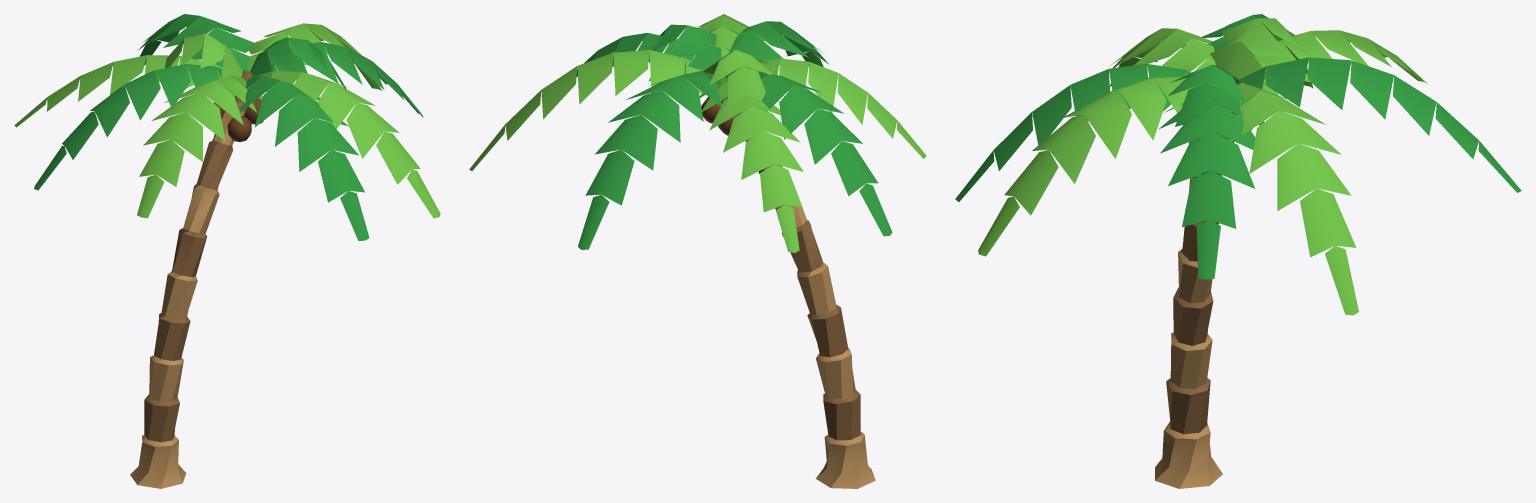
The model's file is palm_tree.glb.
3 renders of one model, left to right at view 1: azimuth 30°, elevation 25°; view 2: azimuth 150°, elevation 25°; view 3: azimuth 270°, elevation 25°, orthographic. The views are drawn at different scales.
Visible parts, largest first — view 1: palm_tree; view 2: palm_tree; view 3: palm_tree.
Part boxes in pixels (x1,y1,x2,y2): palm_tree: (14,14,440,488); palm_tree: (469,14,926,488); palm_tree: (955,14,1521,488).
Bounding box in the file's own units: 4.72 × 4.92 × 5.04.
